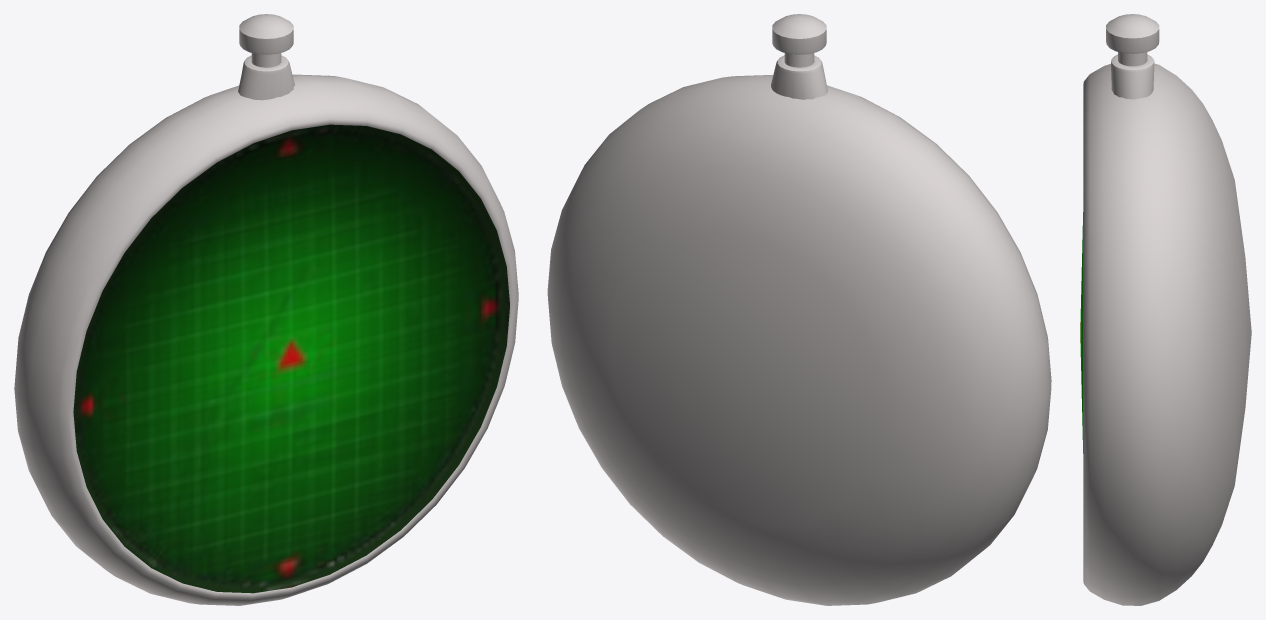
File: dragon_radar_dragon_ball_a49b8b.glb
3 views of the same model, side by side, from view 1: azimuth 30°, elevation 25°; view 2: azimuth 150°, elevation 25°; view 3: azimuth 270°, elevation 25° (orthographic). The views are drawn at different scales.
Parts seen in each view (by area): view 1: Radar; view 2: Radar; view 3: Radar.
Part boxes in pixels (<box>): Radar: <box>14,14,518,605</box>; Radar: <box>547,14,1051,605</box>; Radar: <box>1080,14,1251,605</box>.
Size of the model in its own units: 150 by 170 by 46.95.
2 materials, 2 textured.
